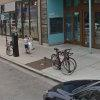Bicycle: (45, 42, 78, 80)
